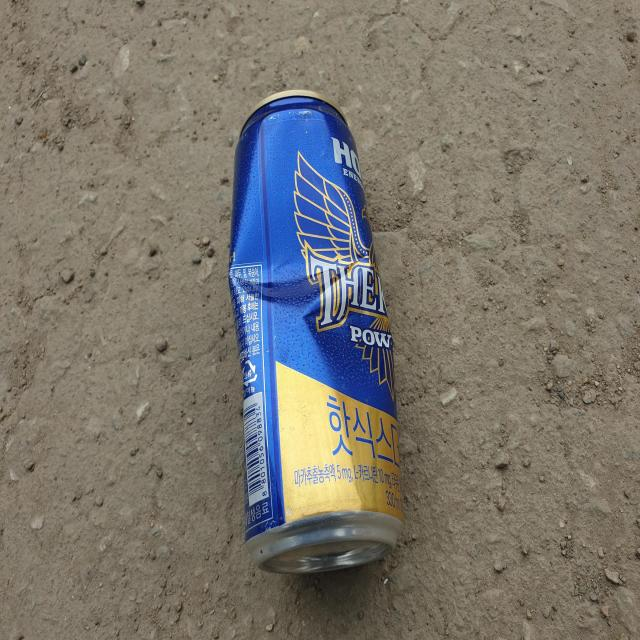can: (228, 89, 403, 574)
